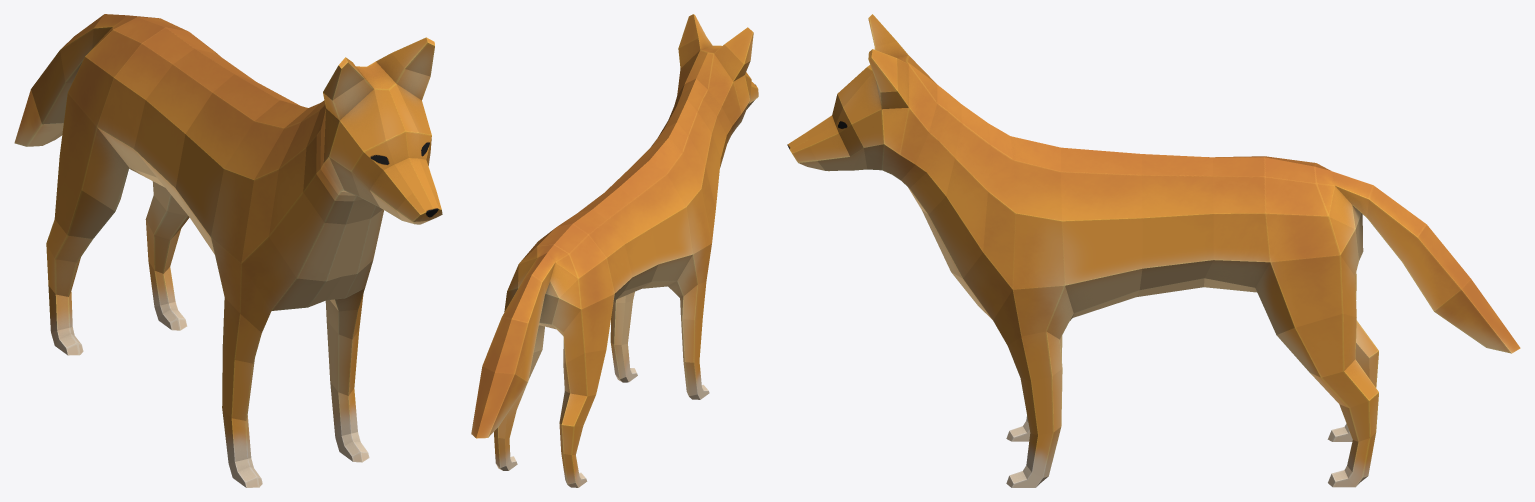
File: 63e79ddd-d515-4064-9775-a99bd8f3a0e3.glb
3 renders of one model, left to right at view 1: azimuth 30°, elevation 25°; view 2: azimuth 150°, elevation 25°; view 3: azimuth 270°, elevation 25°, orthographic. The views are drawn at different scales.
Visible parts, largest first — view 1: Dingo_mesh; view 2: Dingo_mesh; view 3: Dingo_mesh.
Part boxes in pixels (x1,y1,x2,y2): Dingo_mesh: [14, 14, 442, 487]; Dingo_mesh: [471, 14, 758, 487]; Dingo_mesh: [787, 14, 1520, 487].
Size of the model in its own units: 0.9952 by 3.42 by 5.29.
1 material, 1 textured.
